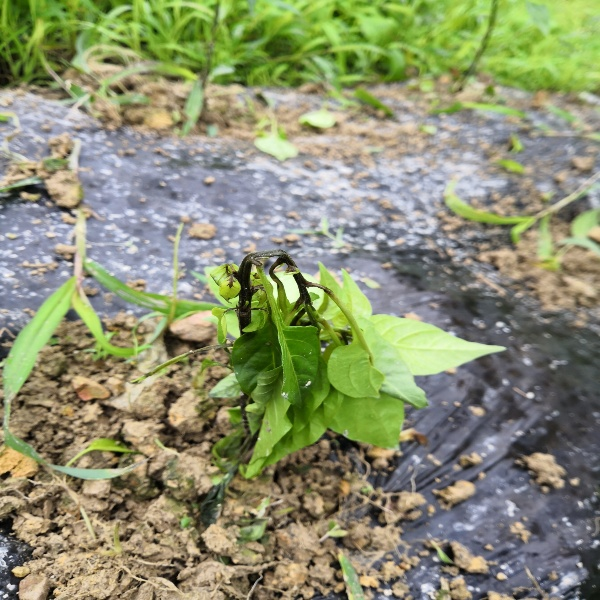blight: (267, 246, 332, 325), (227, 247, 259, 342)
